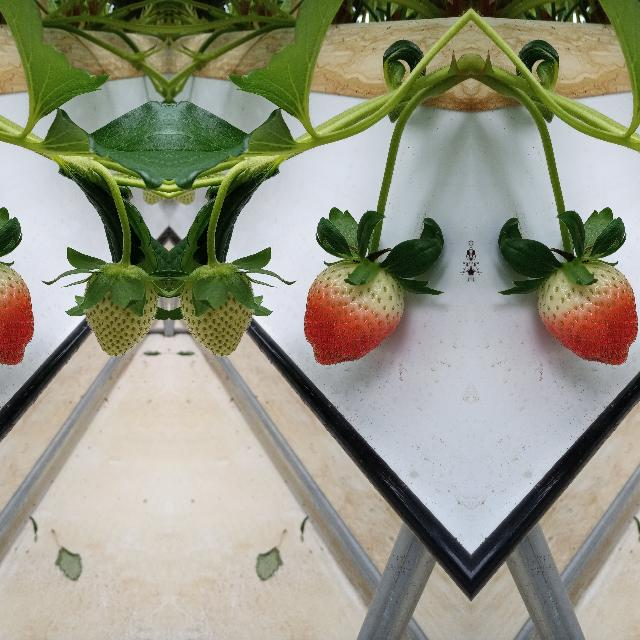Health_75: (302, 260, 403, 366), (538, 260, 638, 366), (0, 260, 33, 366)
